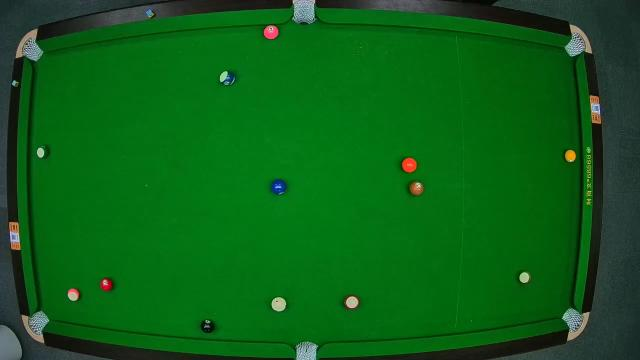bag1: (20, 40, 40, 61)
bag2: (292, 0, 315, 24)
bag3: (567, 34, 587, 54)
bag4: (29, 312, 47, 332)
bag5: (294, 342, 318, 360)
bag6: (564, 310, 584, 332)
ball0: (272, 297, 286, 311)
ball1: (564, 150, 576, 162)
ball10: (219, 71, 235, 85)
ball11: (344, 295, 360, 309)
ball12: (66, 286, 80, 302)
ball14: (36, 144, 49, 158)
ball15: (518, 270, 532, 284)
ball2: (272, 180, 286, 197)
ball3: (99, 278, 113, 290)
ball4: (263, 24, 279, 40)
ball5: (402, 157, 416, 173)
ball7: (409, 180, 425, 196)
ball8: (199, 318, 215, 334)
